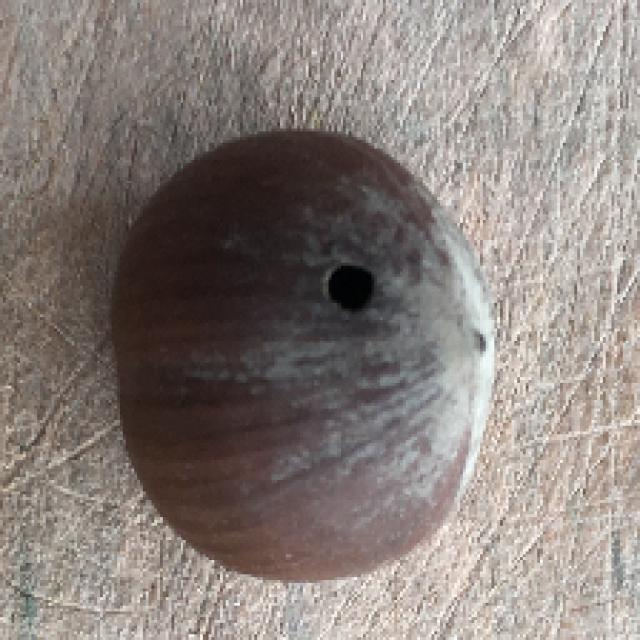damagedHazelnut: (119, 121, 493, 584)
